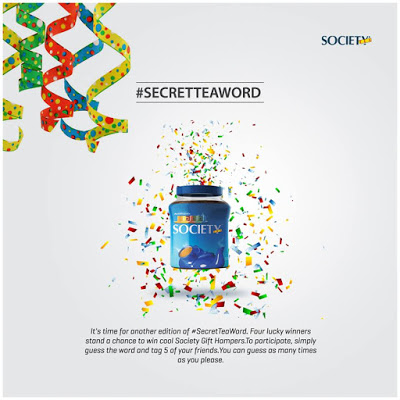society: (165, 199, 232, 270)
